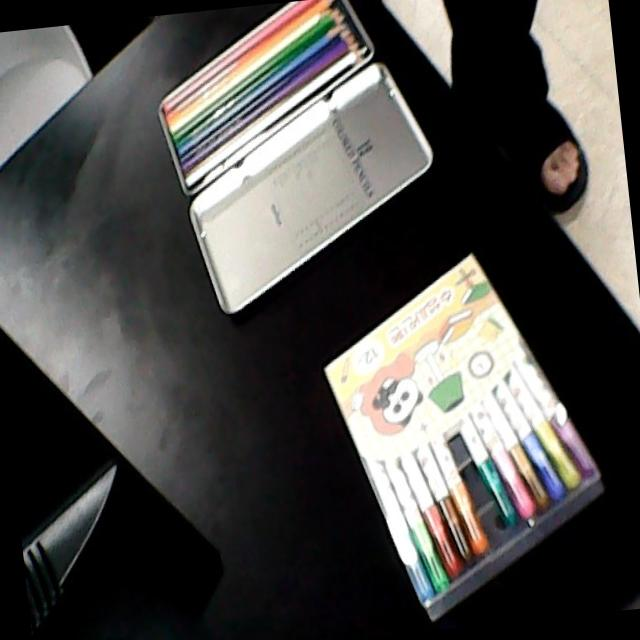color: (150, 0, 389, 209)
signpen: (312, 248, 616, 629)
